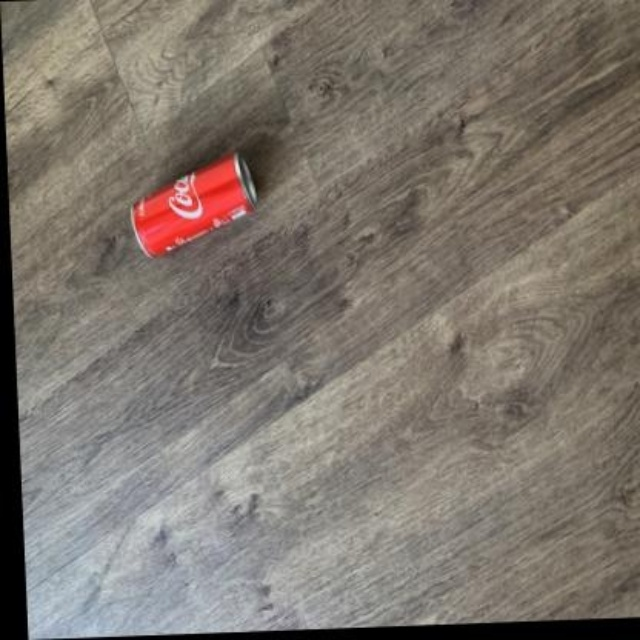trash: (132, 152, 255, 257)
